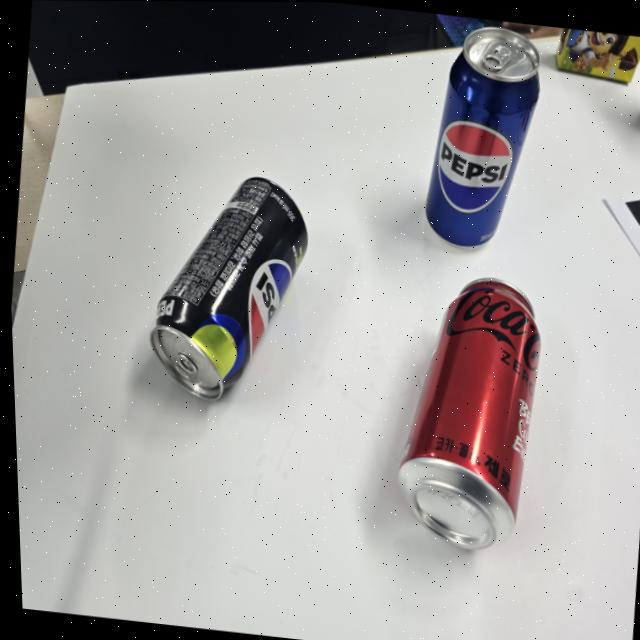can_coke_zero: (398, 278, 541, 548)
can_pepsi: (425, 27, 539, 246)
can_pepsi_zero: (149, 176, 307, 400)
